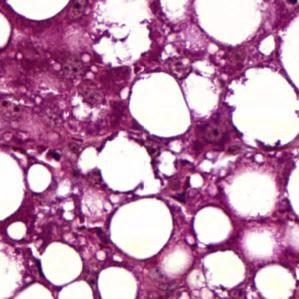steatosis: (127, 69, 194, 137), (113, 198, 175, 257)
